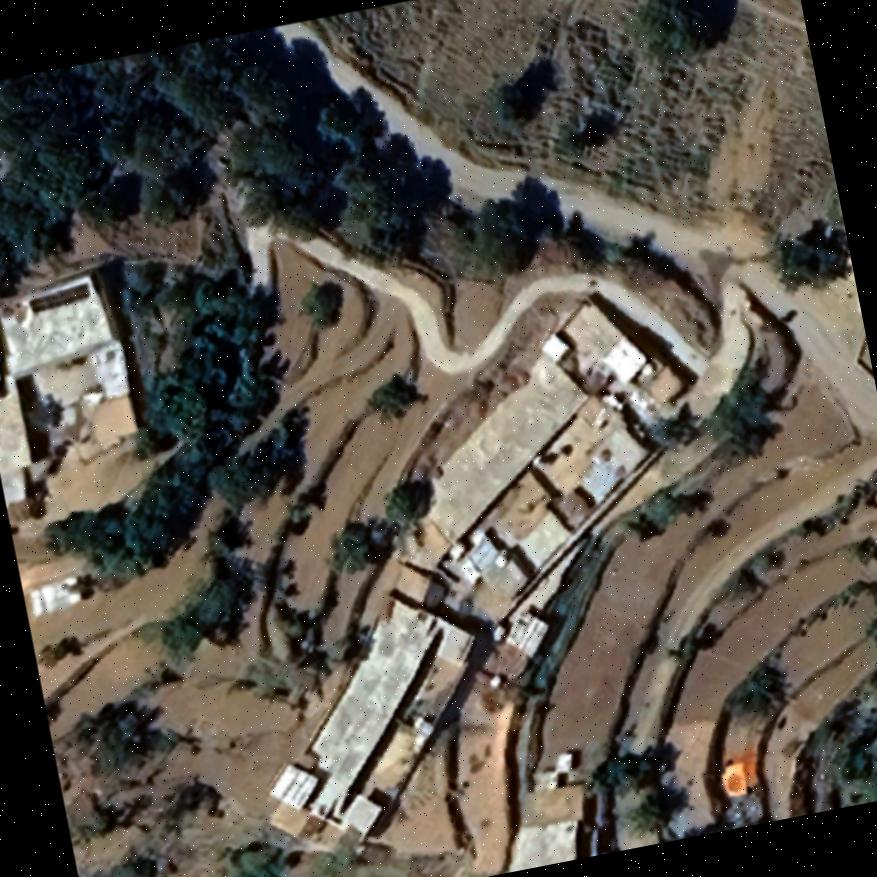Solarpanel: (23, 278, 95, 316)
